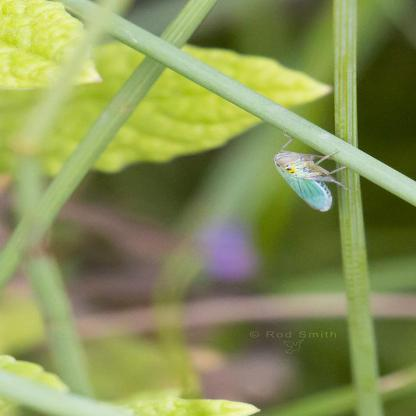Green-Leafhopper: (273, 132, 349, 212)
